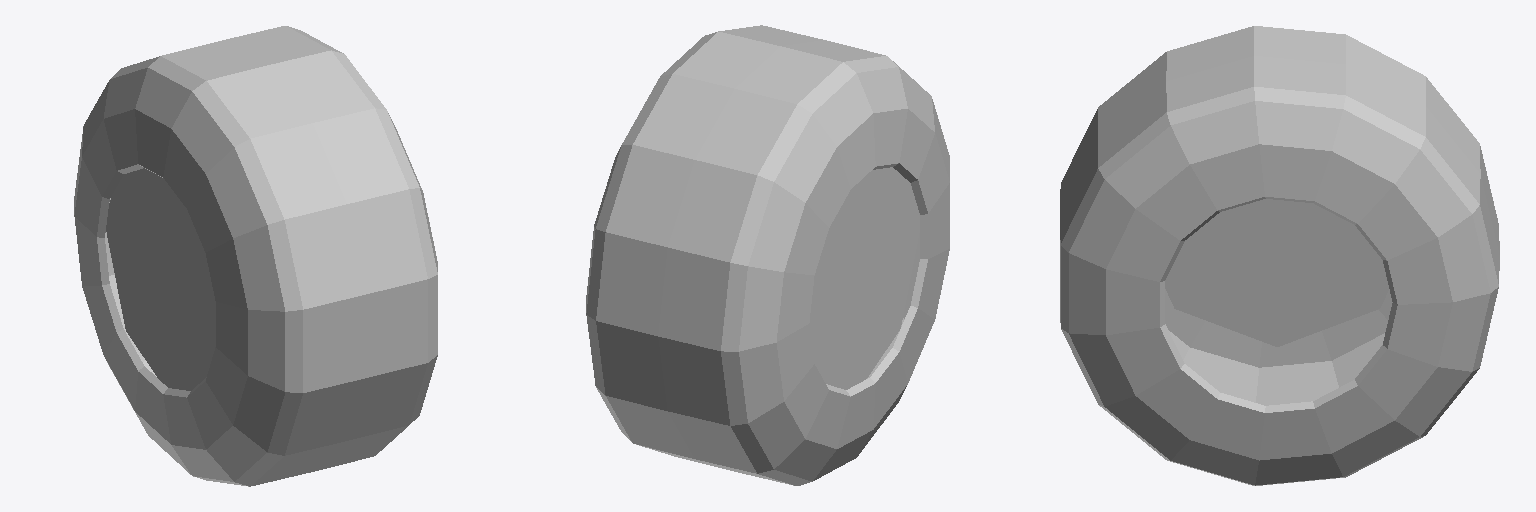
Rendered from Wheel R.obj.
The picture shows the model from 3 angles: view 1: azimuth 30°, elevation 25°; view 2: azimuth 150°, elevation 25°; view 3: azimuth 270°, elevation 25°; orthographic projection.
Parts seen in each view (by area): view 1: Wheel_L Jeep; view 2: Wheel_L Jeep; view 3: Wheel_L Jeep.
Boxes of the visible parts, x1,y1,x2,y2 form: Wheel_L Jeep: [74, 26, 437, 486]; Wheel_L Jeep: [586, 25, 949, 485]; Wheel_L Jeep: [1060, 26, 1499, 485].
Size of the model in its own units: 1.05 by 2.01 by 2.